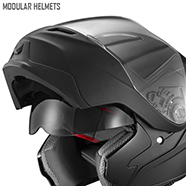with_helmet: (1, 14, 186, 183)
